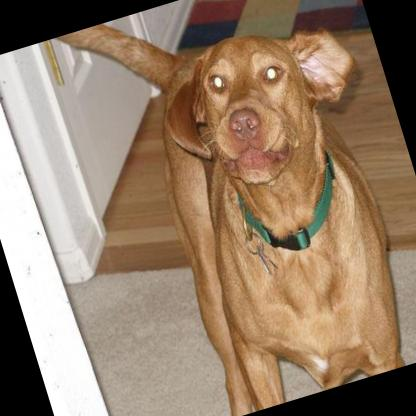vizsla: (57, 0, 416, 416)
